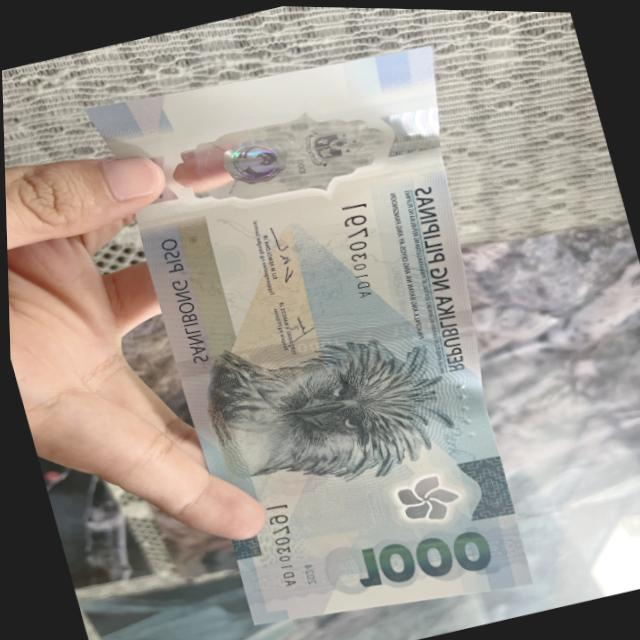clear_window: (146, 81, 411, 225)
eagle: (198, 324, 441, 508)
sampaguita: (359, 462, 472, 542)
security_thread: (177, 283, 473, 394)
serial_number: (325, 186, 394, 311), (247, 493, 316, 598)
